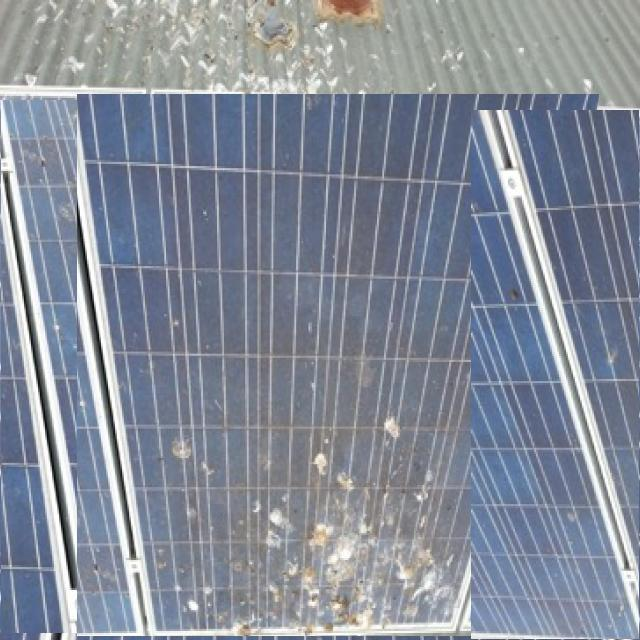Bird-drop: (184, 96, 476, 330)
